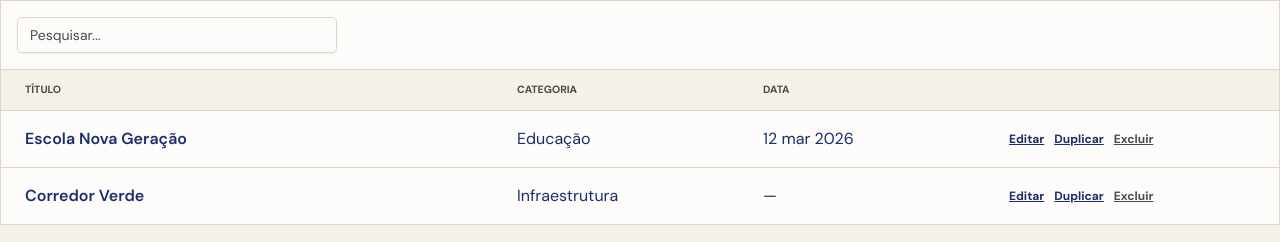
it: ContentTable › filters rows by title as the user types
Type "Corredor" into the field with placeholder "Pesquisar..." at (177, 35), box [17,17,337,53]
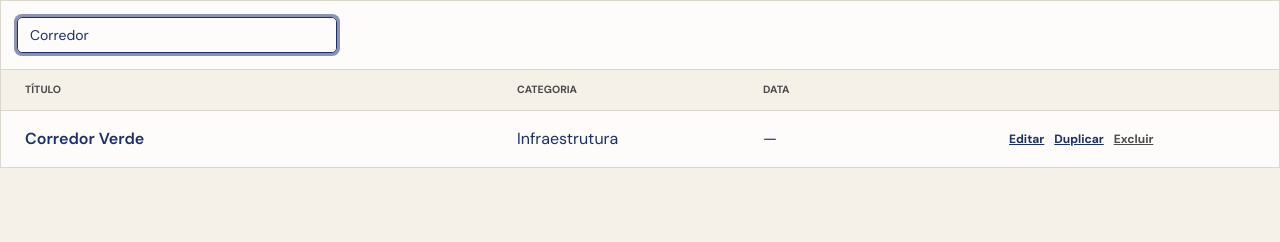
Expected: the text "Corredor Verde" is shown, [25,128,144,149]
Expected: the text "Escola Nova Geração" is gone
